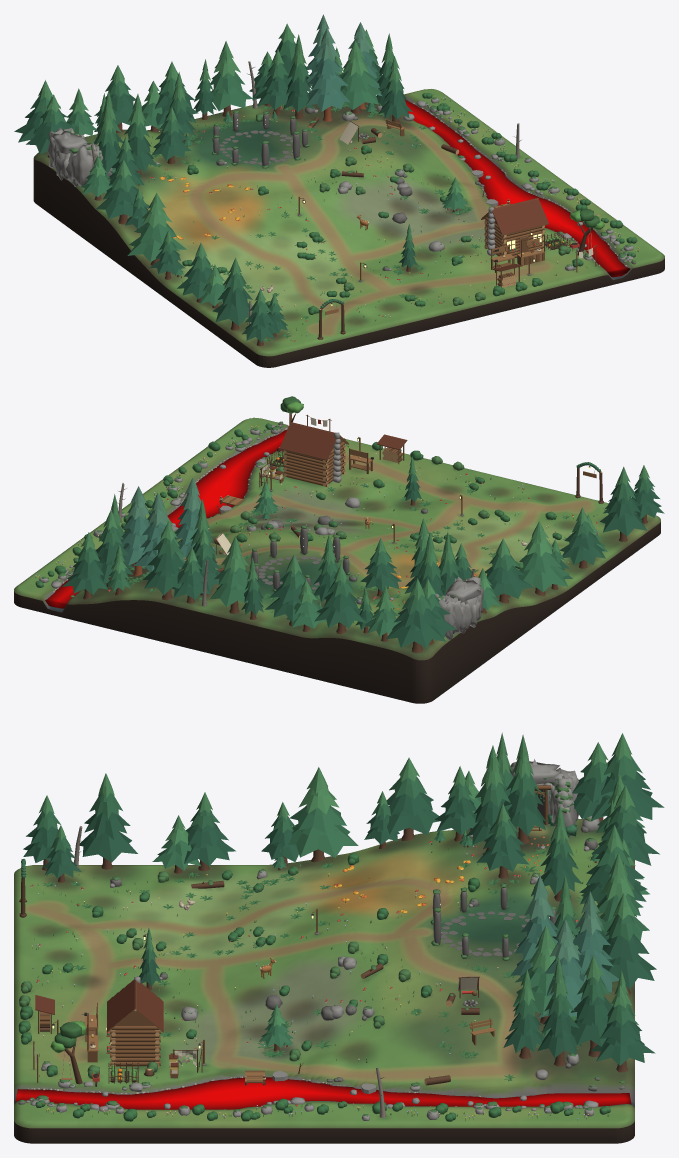
The model's file is forest.glb.
3 views of the same model, one above another, from view 1: azimuth 30°, elevation 25°; view 2: azimuth 150°, elevation 25°; view 3: azimuth 270°, elevation 25° (orthographic). The views are drawn at different scales.
Visible parts, largest first — view 1: Forest_Ground, Forest_Pines, Forest_Static, Forest_Water; view 2: Forest_Ground, Forest_Pines, Forest_Static, Forest_Water; view 3: Forest_Ground, Forest_Pines, Forest_Static, Forest_Water.
Boxes of the visible parts, x1=… form: Forest_Ground: x1=33, y1=89, x2=664, y2=367; Forest_Pines: x1=14, y1=14, x2=521, y2=346; Forest_Static: x1=47, y1=93, x2=639, y2=341; Forest_Water: x1=405, y1=99, x2=630, y2=277; Forest_Ground: x1=14, y1=417, x2=660, y2=703; Forest_Pines: x1=62, y1=456, x2=664, y2=653; Forest_Static: x1=30, y1=396, x2=609, y2=639; Forest_Water: x1=45, y1=430, x2=286, y2=608; Forest_Ground: x1=14, y1=818, x2=634, y2=1143; Forest_Pines: x1=23, y1=732, x2=664, y2=1117; Forest_Static: x1=18, y1=759, x2=625, y2=1121; Forest_Water: x1=15, y1=1077, x2=631, y2=1109.
Bounding box in the file's own units: 35.68 × 12.58 × 35.65.
